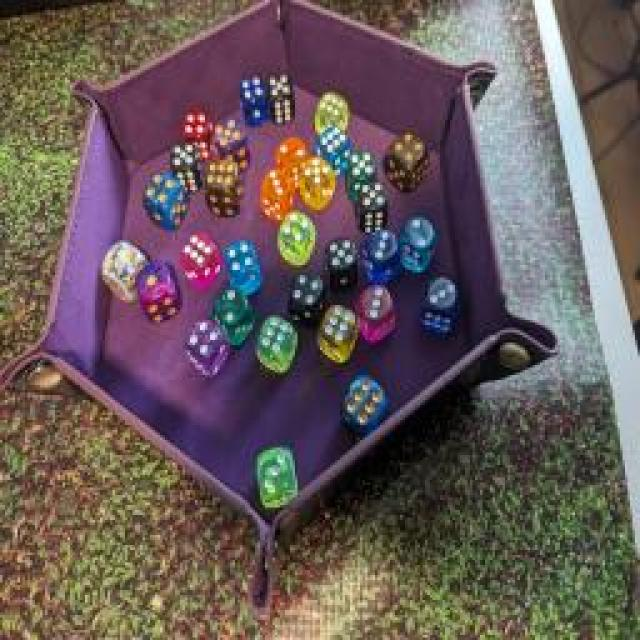dice_1: (131, 258, 181, 324)
dice_2: (98, 238, 148, 302), (208, 284, 254, 348), (396, 212, 436, 278), (272, 136, 308, 182)
dice_3: (251, 440, 304, 508), (420, 269, 462, 339), (355, 284, 400, 344), (257, 166, 295, 224), (362, 230, 396, 280)
dice_4: (139, 168, 186, 228), (382, 129, 428, 189), (274, 205, 316, 270), (286, 268, 326, 328), (226, 234, 262, 296), (180, 108, 212, 162), (236, 72, 266, 122)
dice_5: (184, 317, 224, 385), (298, 151, 338, 214), (319, 234, 361, 288), (212, 115, 248, 170), (168, 141, 204, 191), (265, 68, 295, 128)
dice_6: (339, 374, 389, 438), (256, 312, 302, 376), (180, 231, 225, 294), (318, 299, 358, 369), (201, 156, 244, 216), (350, 181, 390, 234), (310, 88, 350, 138), (316, 126, 352, 176), (345, 146, 375, 196)
